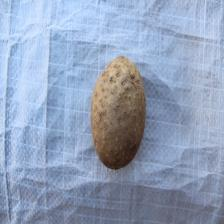Diseased-fungal potato: (89, 54, 147, 172)
